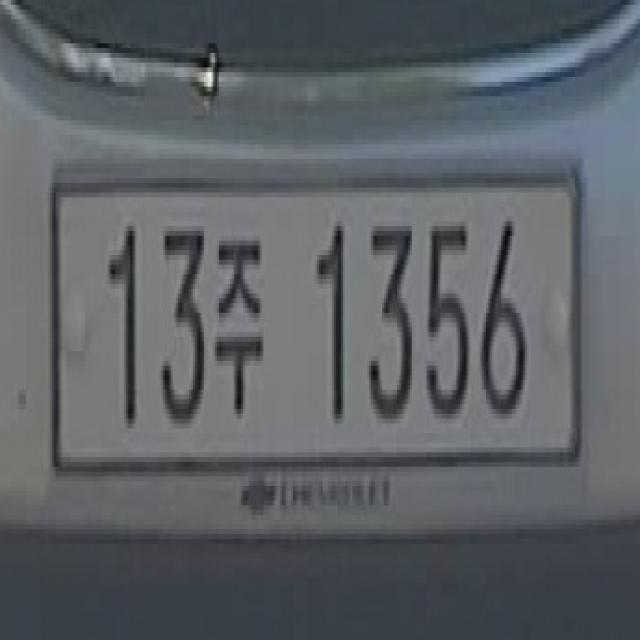1: (100, 207, 150, 443), (306, 212, 358, 438)
3: (362, 212, 419, 438), (154, 212, 210, 442)
5: (421, 207, 475, 443)
6: (479, 207, 536, 443)
ju: (210, 212, 269, 442)
license_plate: (43, 149, 588, 525)
